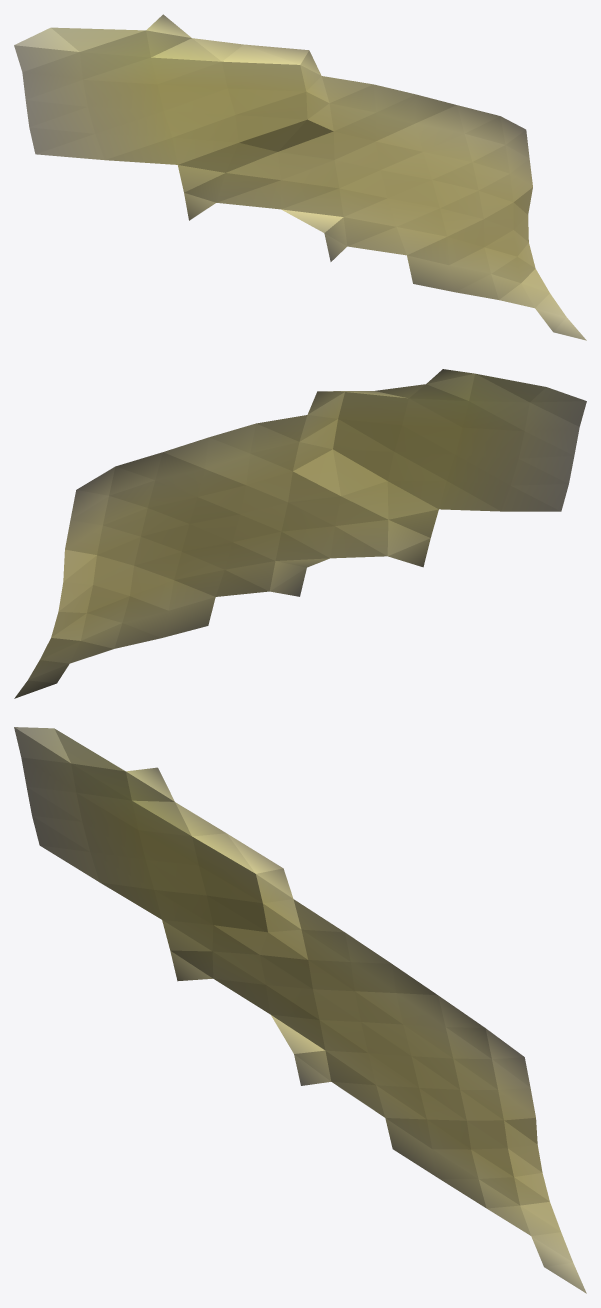
The model's file is entity-floor-marking-40.glb.
The picture shows the model from 3 angles, top to bottom: view 1: azimuth 30°, elevation 25°; view 2: azimuth 150°, elevation 25°; view 3: azimuth 330°, elevation 25°; orthographic projection.
Parts seen in each view (by area): view 1: geometry_0; view 2: geometry_0; view 3: geometry_0.
Boxes of the visible parts, left/top/right/bottom form: geometry_0: left=14, top=14, right=586, bottom=340; geometry_0: left=14, top=369, right=586, bottom=698; geometry_0: left=14, top=727, right=586, bottom=1293.
Bounding box in the file's own units: 0.2141 × 0.1582 × 0.0206.
